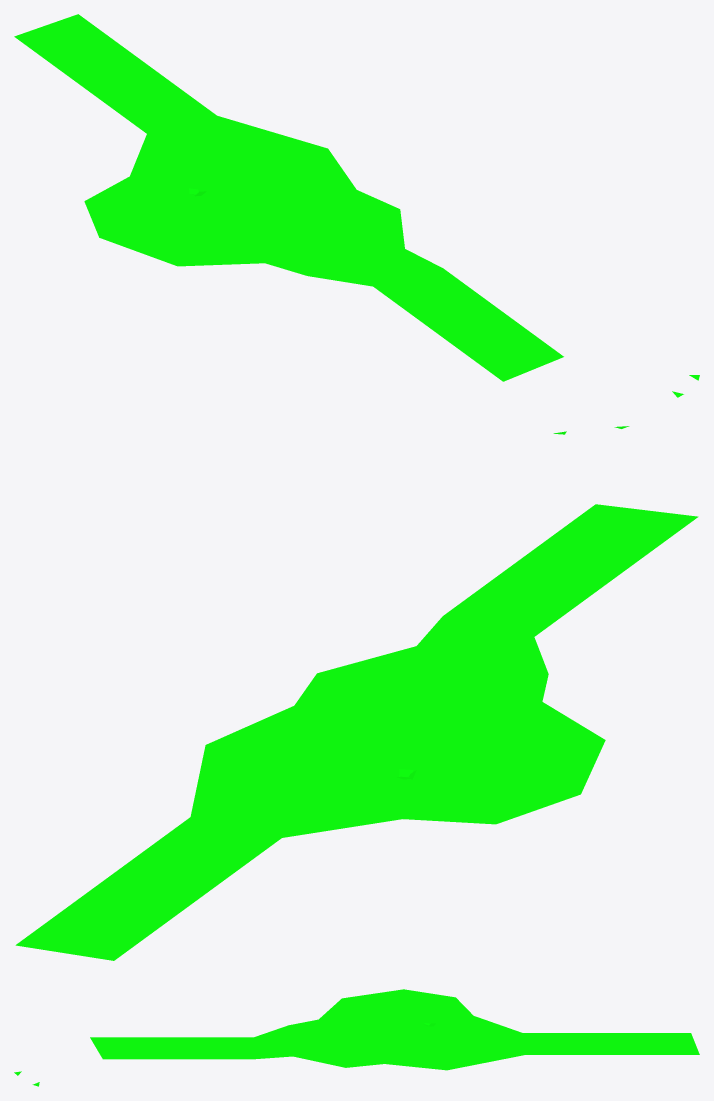
File: s03b_sa1-floor.glb
3 renders of one model, top to bottom at view 1: azimuth 30°, elevation 25°; view 2: azimuth 150°, elevation 25°; view 3: azimuth 270°, elevation 25°, orthographic. The views are drawn at different scales.
Parts seen in each view (by area): view 1: collision_floor-colonly; view 2: collision_floor-colonly; view 3: collision_floor-colonly.
Part boxes in pixels (<box>): collision_floor-colonly: <box>14,14,699,397</box>; collision_floor-colonly: <box>15,426,698,960</box>; collision_floor-colonly: <box>14,989,699,1086</box>.
Size of the model in its own units: 26.23 by 0.4141 by 79.11.
